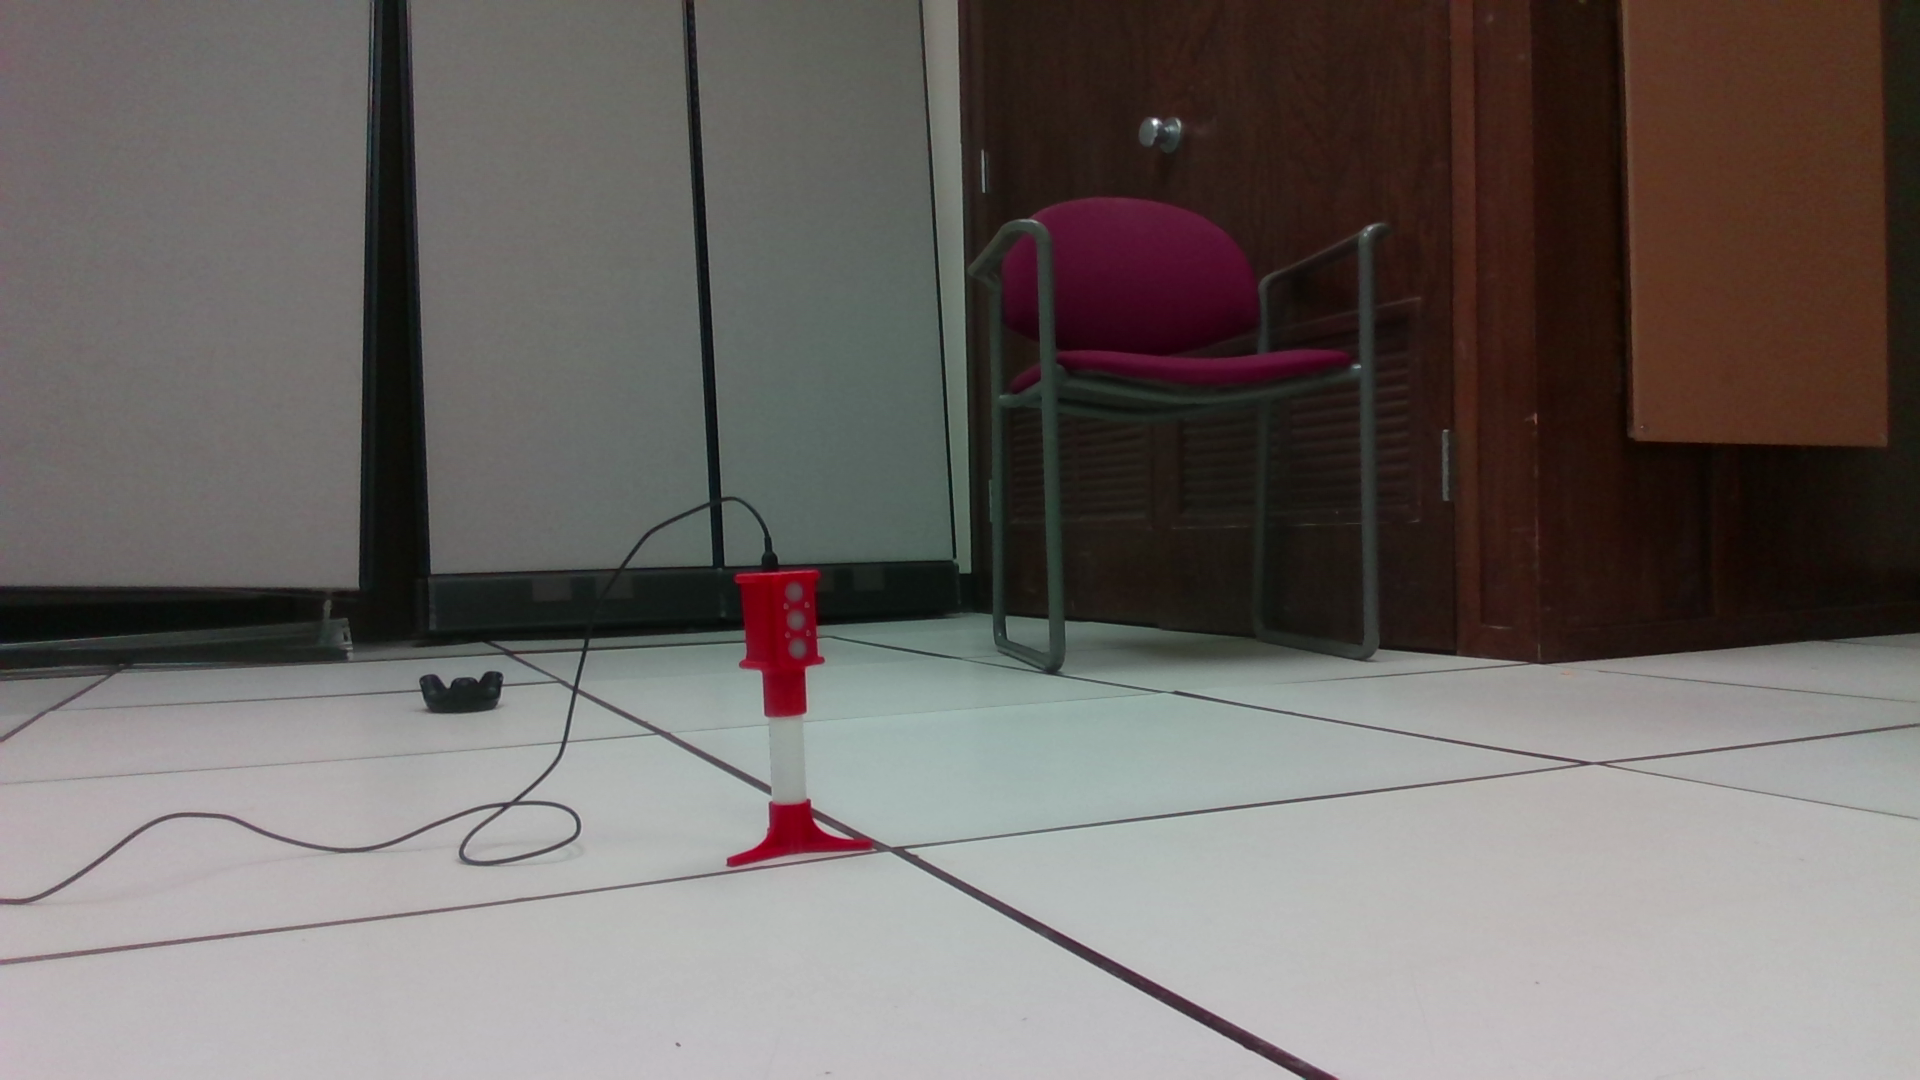stoplight: (737, 567, 828, 723)
